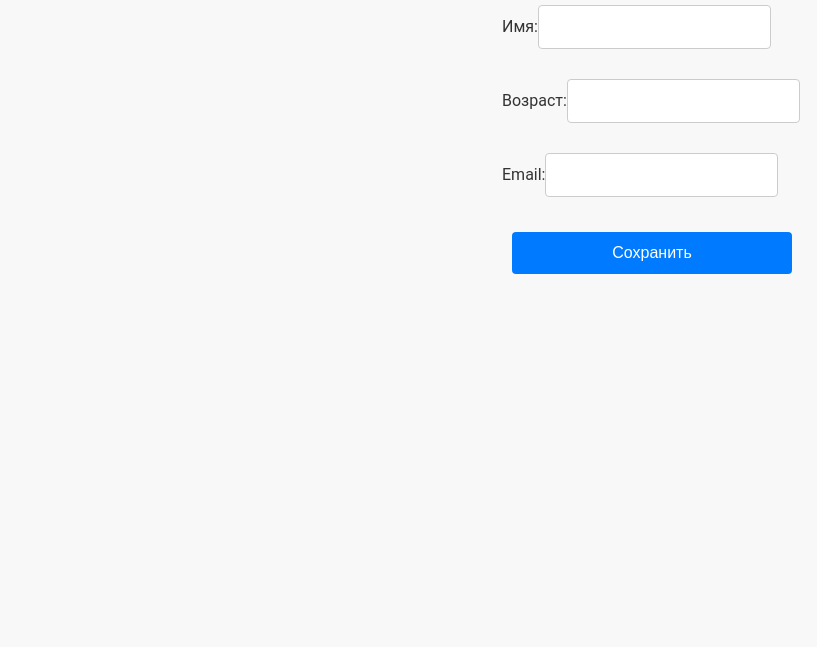
Test case: FormAuf Component › should add new element to list after form submission
Type "New Name" into the field labelled "Имя:" at coordinates (654, 27), box [538,5,771,49]
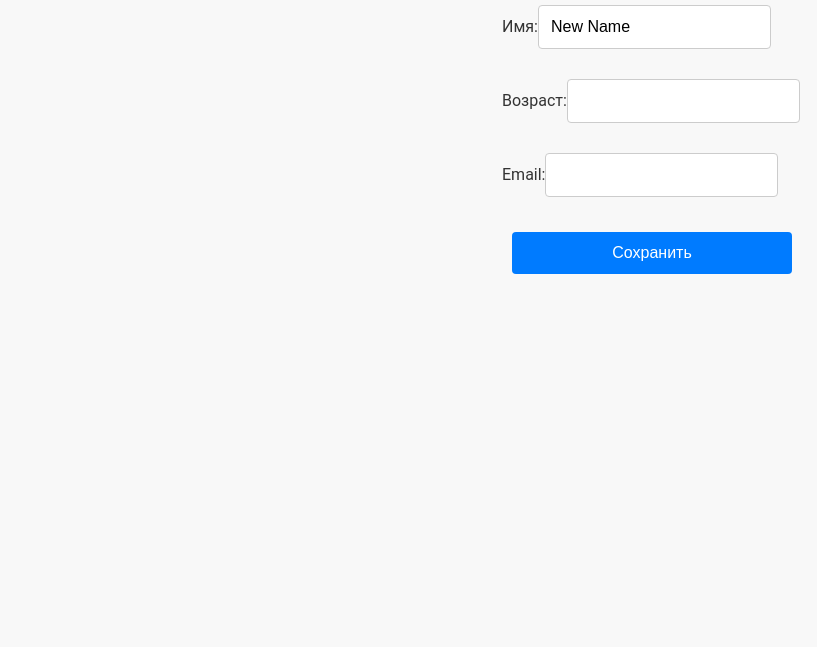
Type "30" into the field labelled "Возраст:" at coordinates (683, 101), box [567,79,800,123]
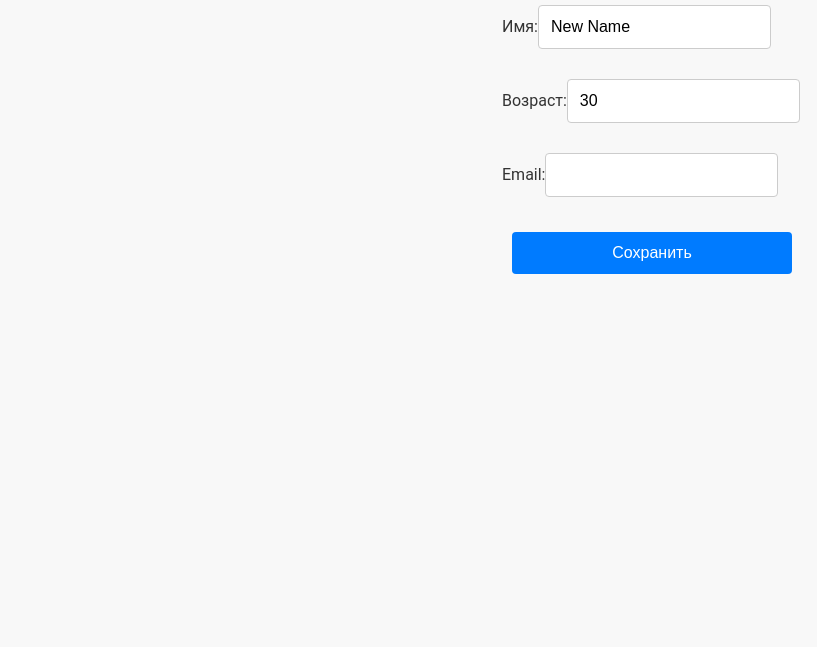
Type "new@example.com" into the field labelled "Email:" at coordinates (662, 175), box [546,153,778,197]
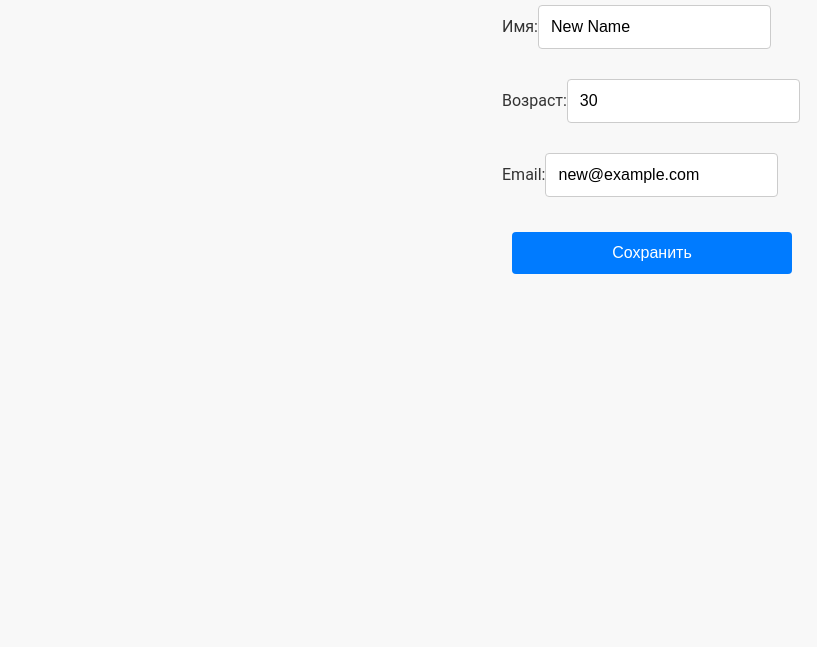
Click the button "Сохранить" at coordinates (652, 253), box [512,232,792,274]
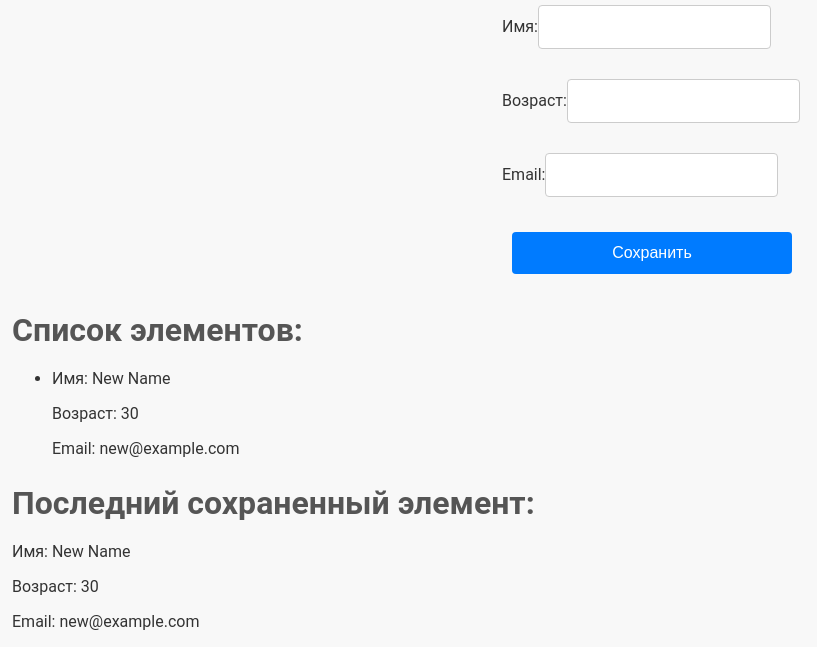
Expected: the number of list items is 1, [52,368,239,458]
Expected: the list item shows "New Name", [92,368,170,388]
Expected: the list item shows "30", [121,404,139,422]
